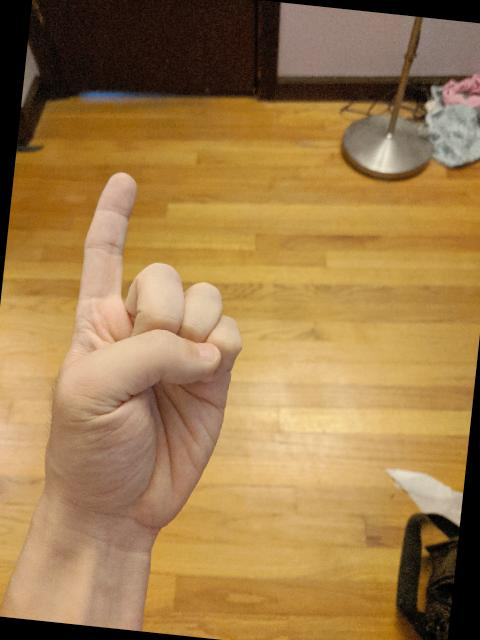D: (32, 160, 266, 547)
